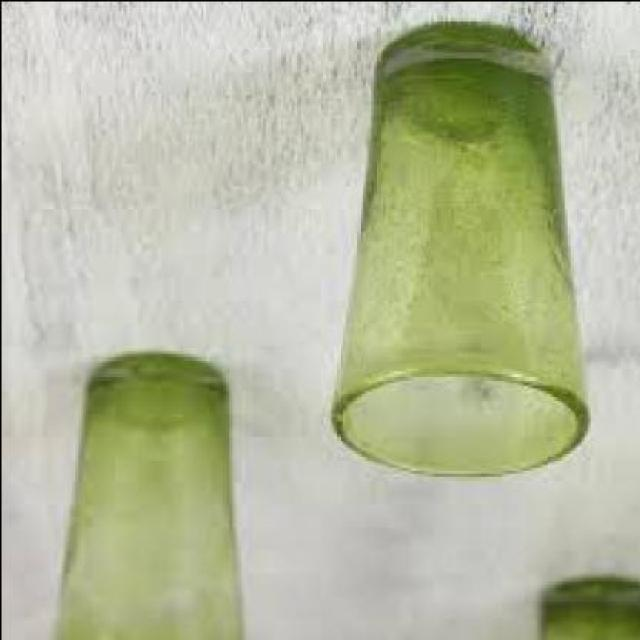GLASS: (327, 22, 588, 481), (49, 353, 242, 639), (535, 578, 637, 639)
